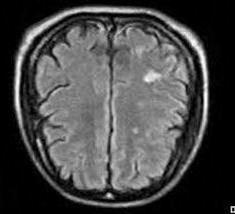Normal_Brain: (8, 1, 235, 202)
